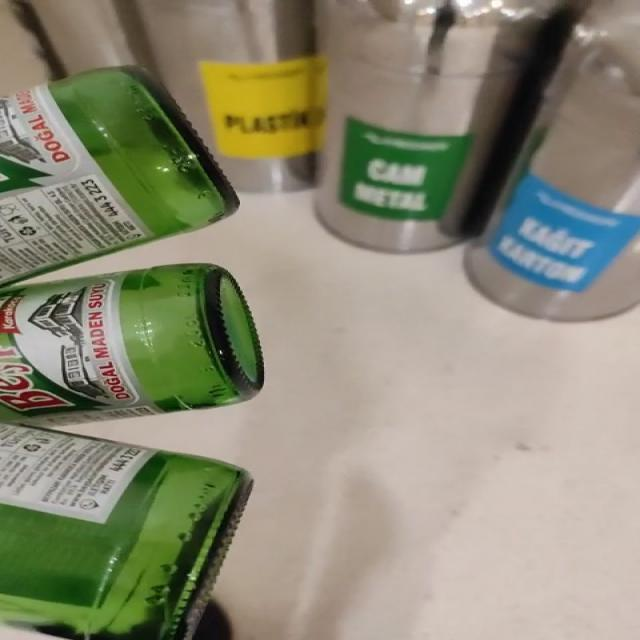Glass: (0, 264, 263, 640), (0, 67, 236, 284)
